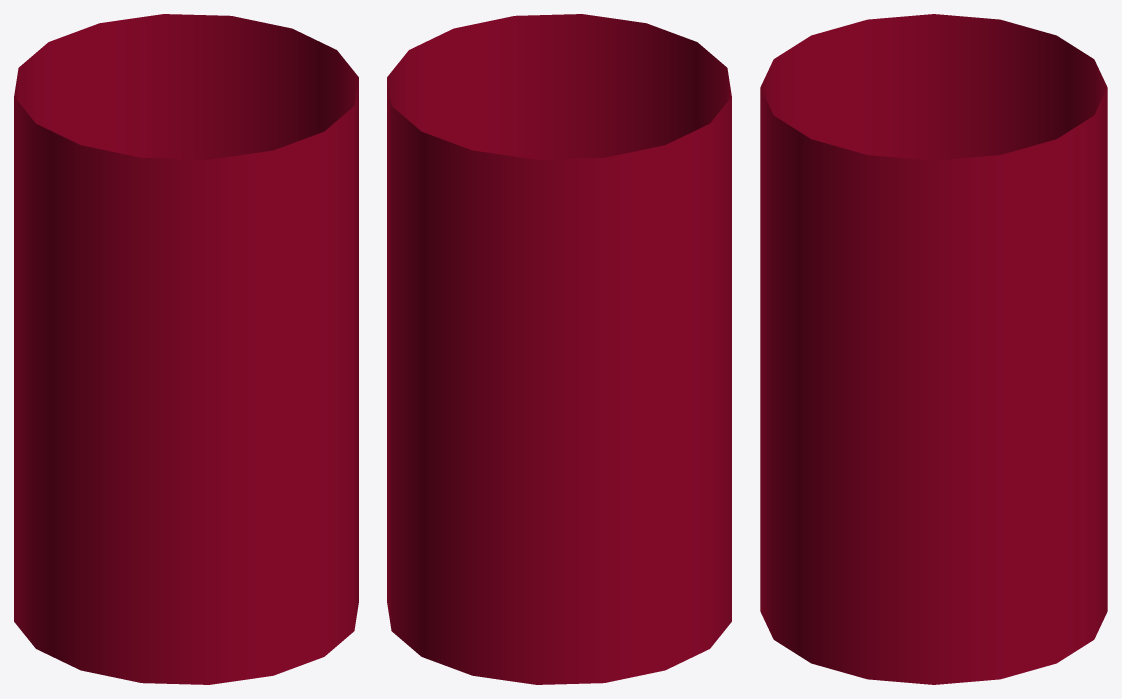
The model's file is red_item_aura.fbx.
The picture shows the model from 3 angles, left to right: view 1: azimuth 30°, elevation 25°; view 2: azimuth 150°, elevation 25°; view 3: azimuth 270°, elevation 25°; orthographic projection.
Parts seen in each view (by area): view 1: pCylinder1; view 2: pCylinder1; view 3: pCylinder1.
Part boxes in pixels (x1,y1,x2,y2): pCylinder1: [14, 14, 358, 684]; pCylinder1: [387, 14, 731, 684]; pCylinder1: [760, 14, 1107, 684].
Bounding box in the file's own units: 60 × 100 × 60.
Materials: 1 (1 with a texture image).
